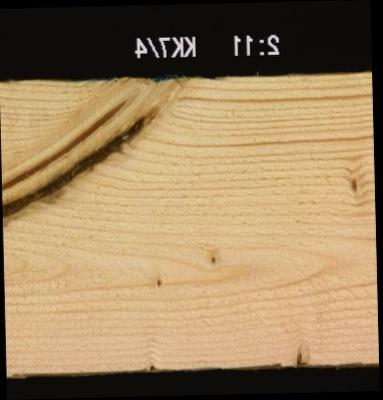edge_knot: (284, 340, 308, 367), (144, 359, 161, 370)
small_knot: (347, 170, 359, 195), (205, 250, 219, 267), (151, 275, 164, 289)
